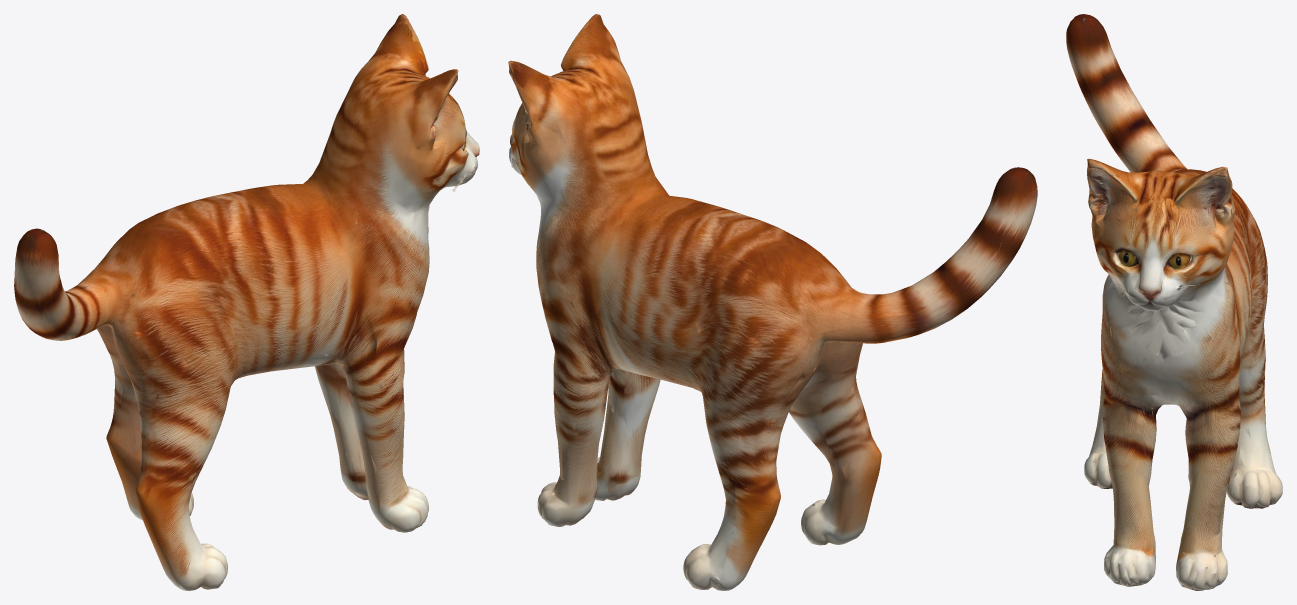
Rendered from JOCKCAT.glb.
3 views of the same model, side by side, from view 1: azimuth 30°, elevation 25°; view 2: azimuth 150°, elevation 25°; view 3: azimuth 270°, elevation 25° (orthographic). The views are drawn at different scales.
Parts seen in each view (by area): view 1: fit; view 2: fit; view 3: fit.
Part boxes in pixels (left/top/right/bottom): fit: left=14, top=14, right=479, bottom=590; fit: left=508, top=14, right=1037, bottom=590; fit: left=1066, top=14, right=1282, bottom=590.
Size of the model in its own units: 1.12 by 1 by 0.4497.
Materials: 1 (1 with a texture image).
